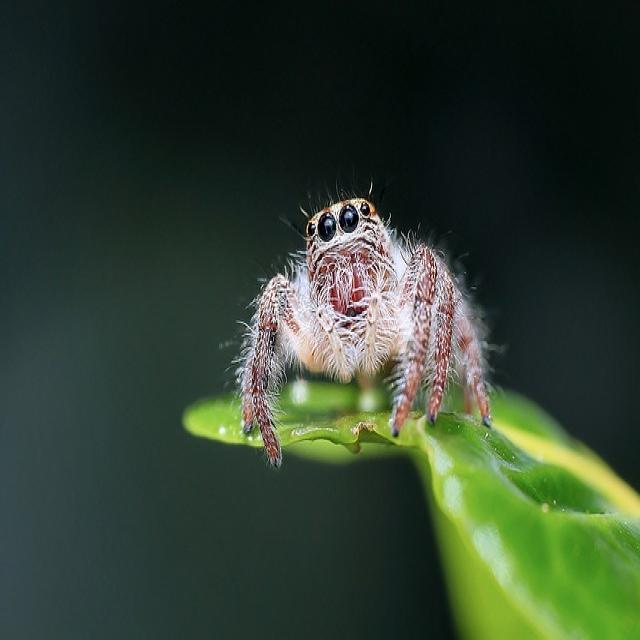spyder: (242, 199, 489, 465)
